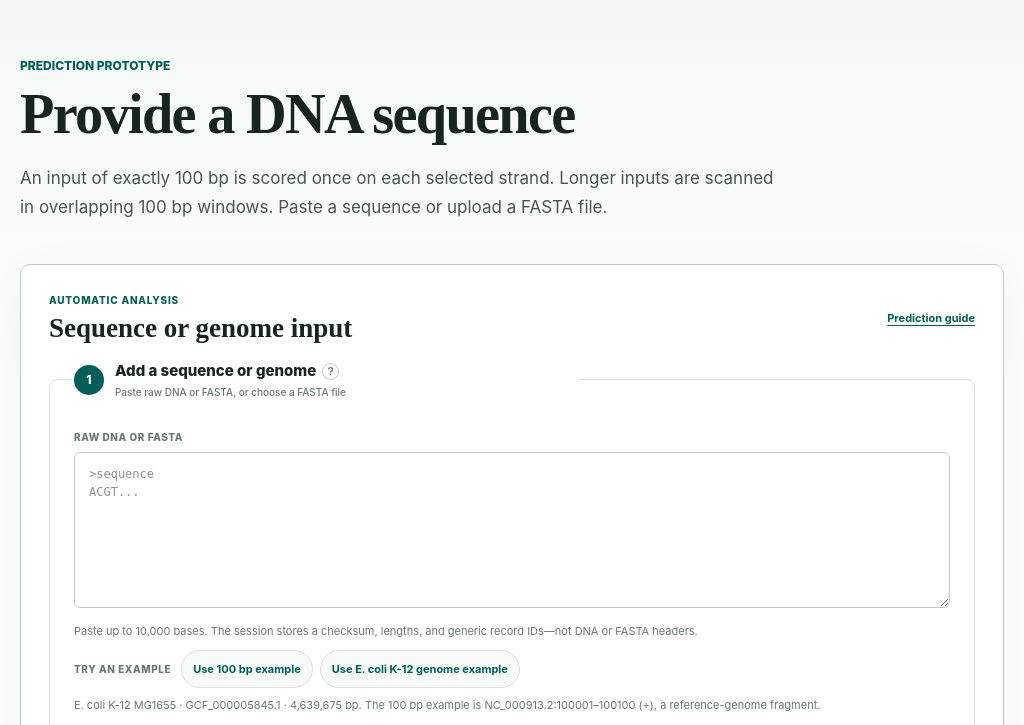
prototype prediction workbench › explains an invalid cutoff when input and CGR context are ready
Click the button "Use 100 bp example" at [247, 669], box [181,650,313,688]
(page scrolled)
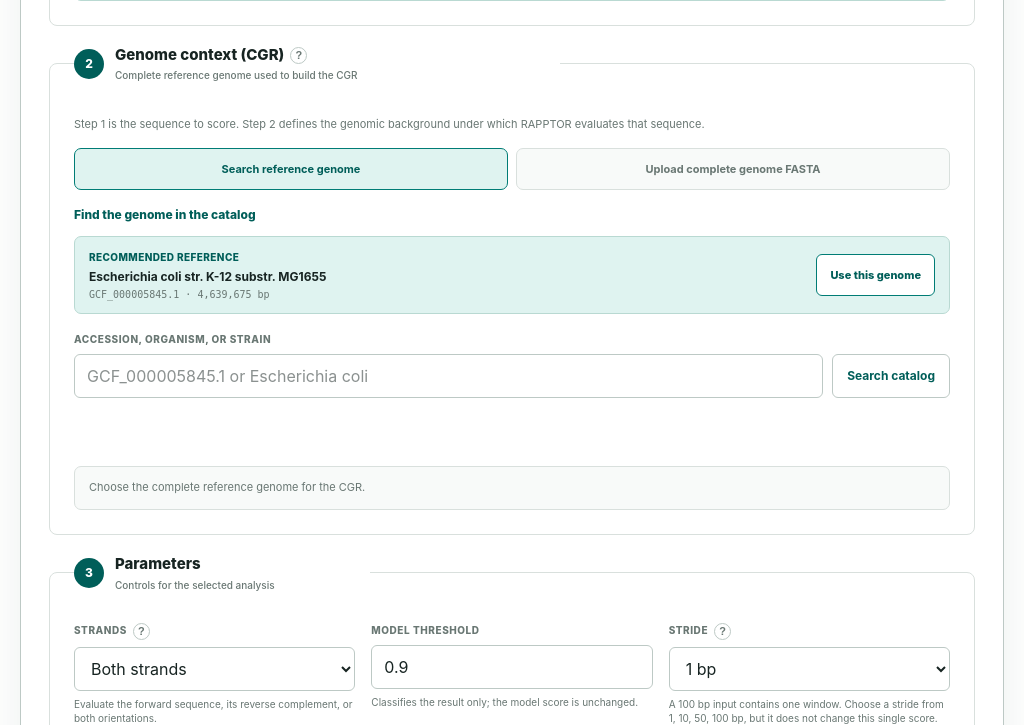
Type "GCF_000012685.1" into the dropdown labelled "Accession, organism, or strain" at [449, 376], box [74,354,823,398]
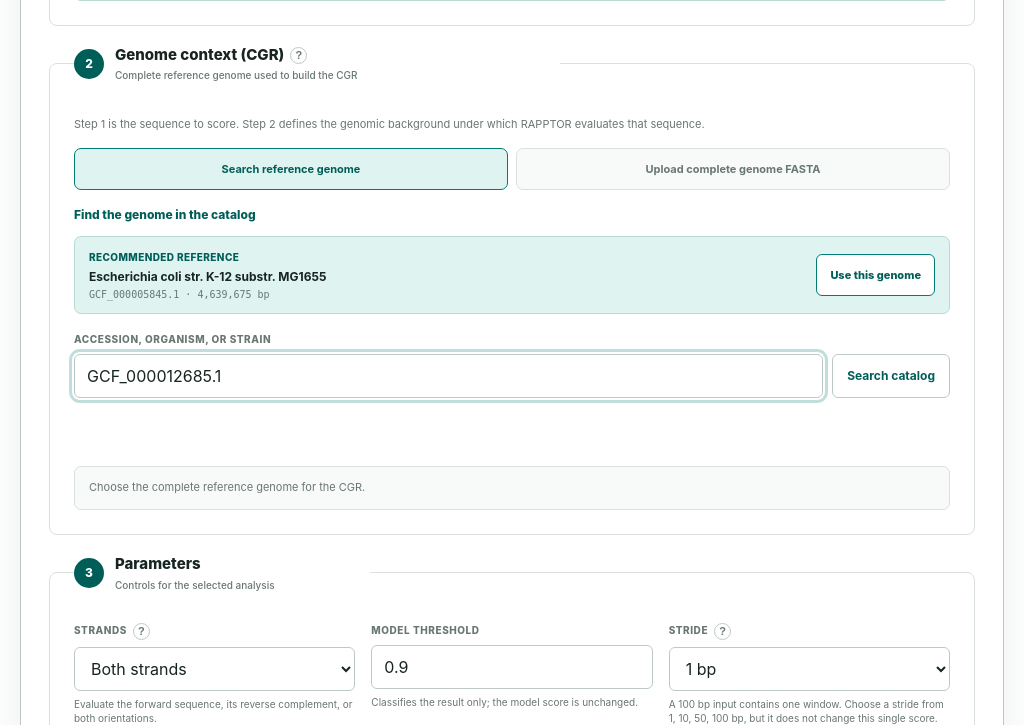
Click the button "Search catalog" at [891, 376], box [832,354,950,398]
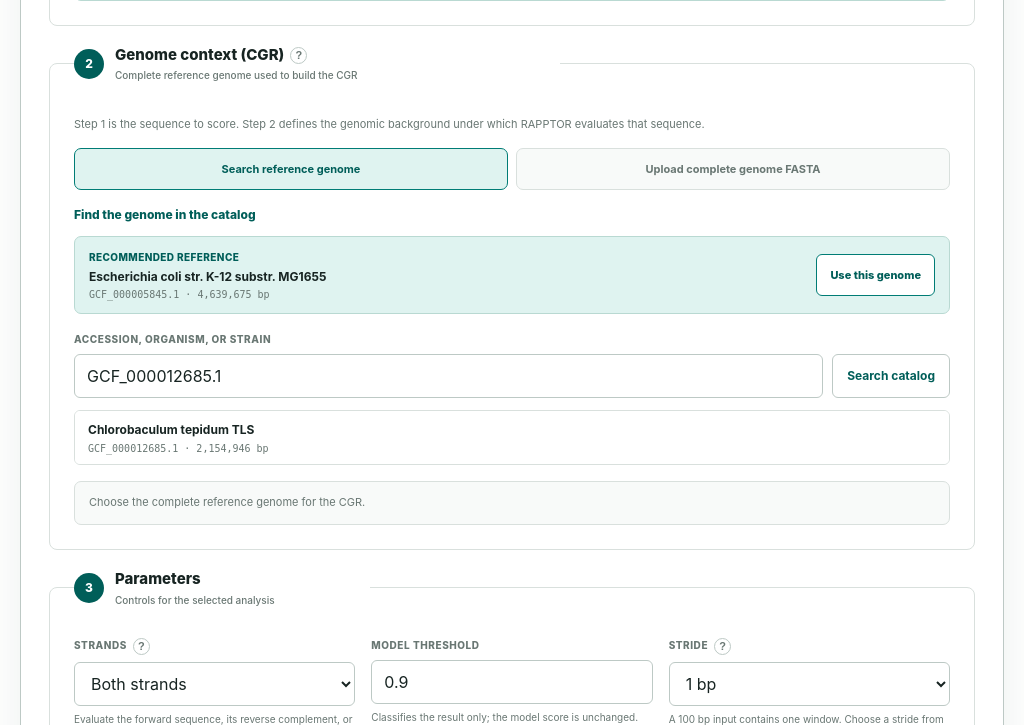
Click the option "Chlorobaculum tepidum TLS GCF_000012685.1 · 2,154,946 bp" at [171, 430], box [75,411,949,464]
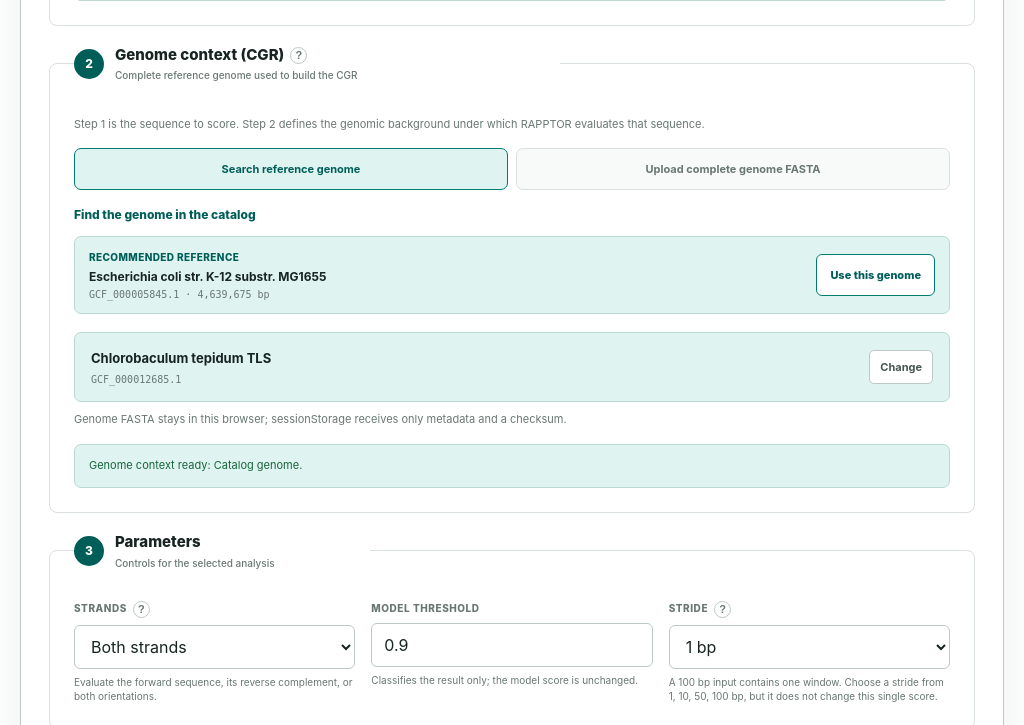
Expected: the text "Genome context ready: Catalog genome." is shown, [74,444,950,488]
Clear the number field labelled "Model threshold" at [512, 645], box [371,623,653,667]
(page scrolled)
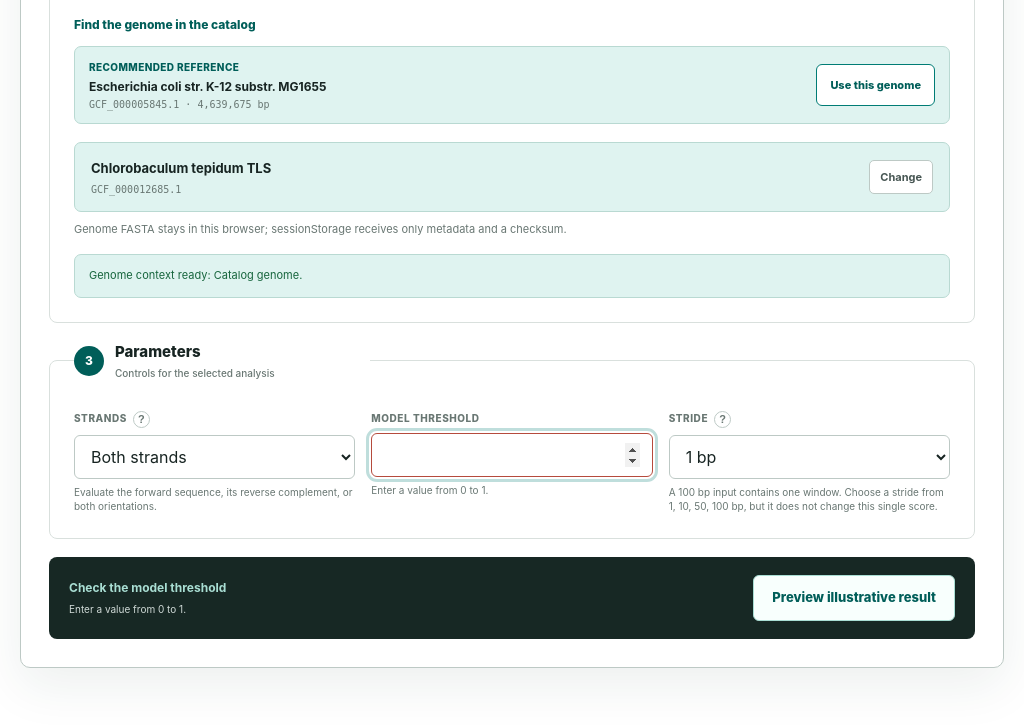
Expected: the text "Enter a value from 0 to 1." below "Strands" is shown, [371,484,488,496]
Click the button "Preview illustrative result" at [854, 598], box [753,575,955,621]
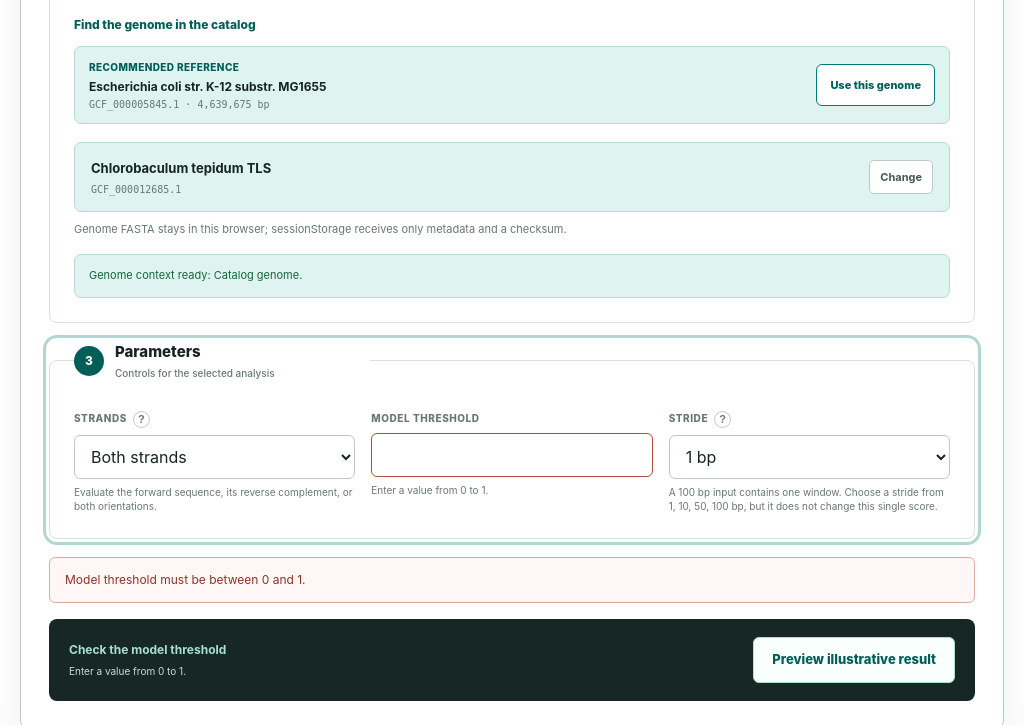
Expected: the message shows "Model threshold must be between 0 and 1", [65,572,306,587]
